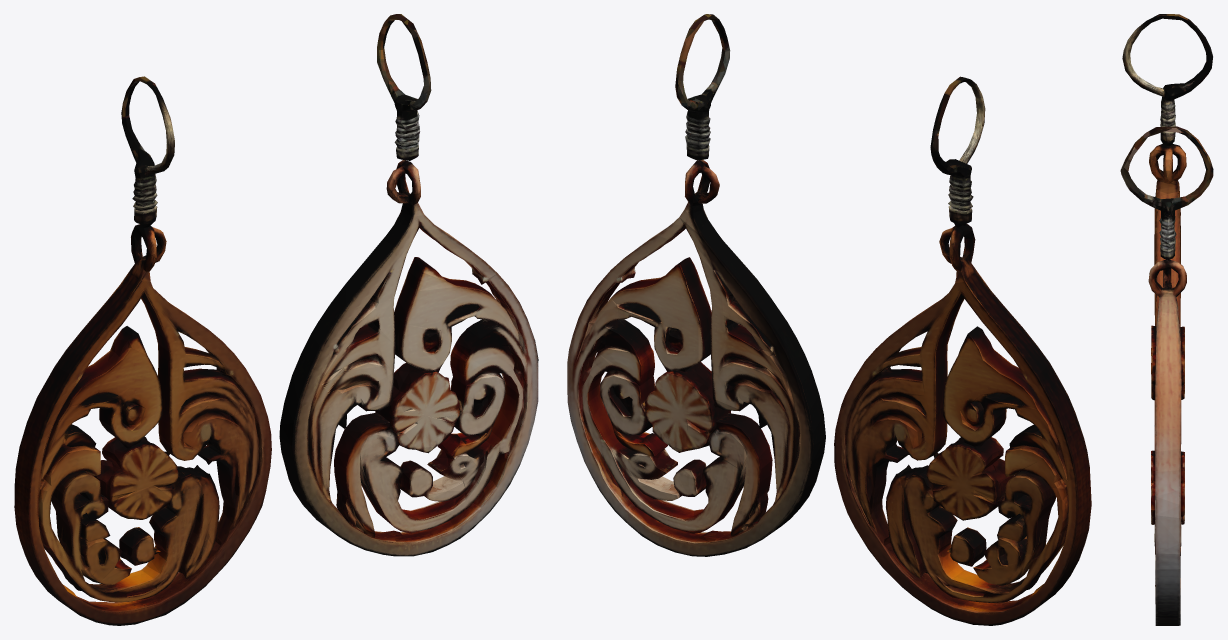
Rendered from wooden-earrings-3d.jpeg.glb.
3 renders of one model, left to right at view 1: azimuth 30°, elevation 25°; view 2: azimuth 150°, elevation 25°; view 3: azimuth 270°, elevation 25°, orthographic. The views are drawn at different scales.
Parts seen in each view (by area): view 1: world; view 2: world; view 3: world.
Part boxes in pixels (<box>): world: <box>14,14,538,625</box>; world: <box>567,14,1091,625</box>; world: <box>1120,14,1213,625</box>.
Size of the model in its own units: 0.999 by 1 by 0.1745.
1 material, 1 textured.
